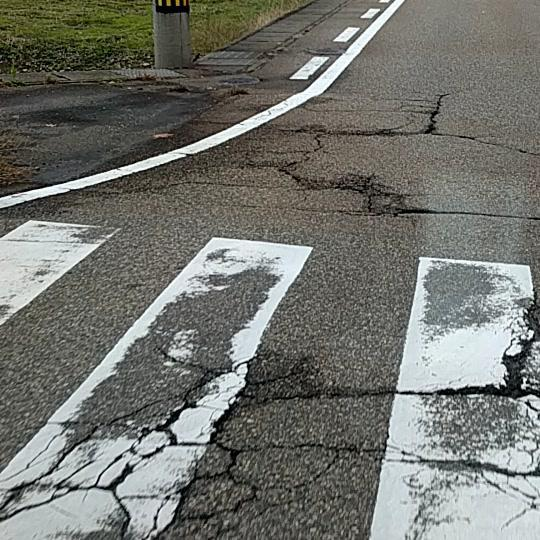D20: (0, 338, 539, 539), (228, 85, 539, 223)
